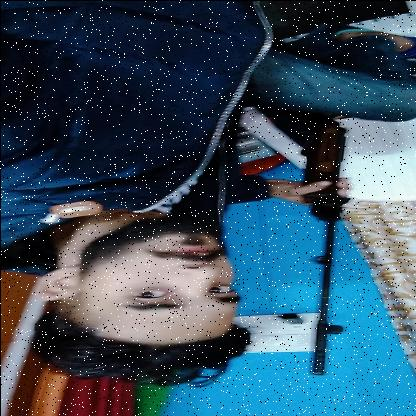rifle: (292, 109, 353, 377)
